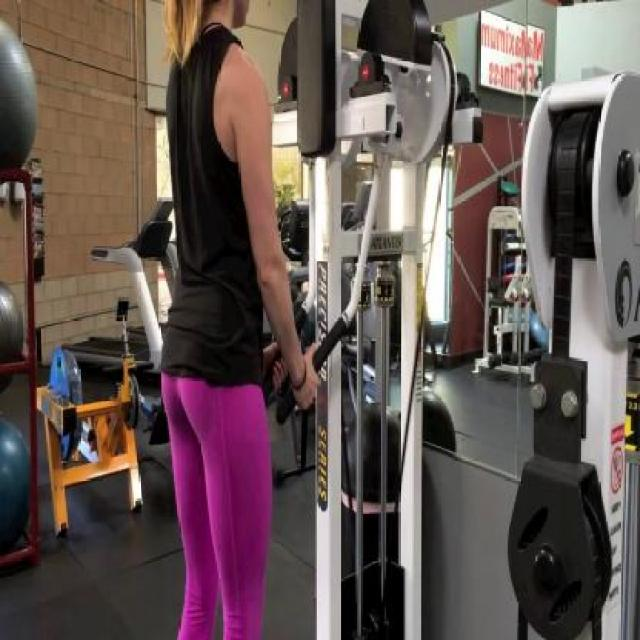lateral raises machine: (272, 0, 478, 640)
